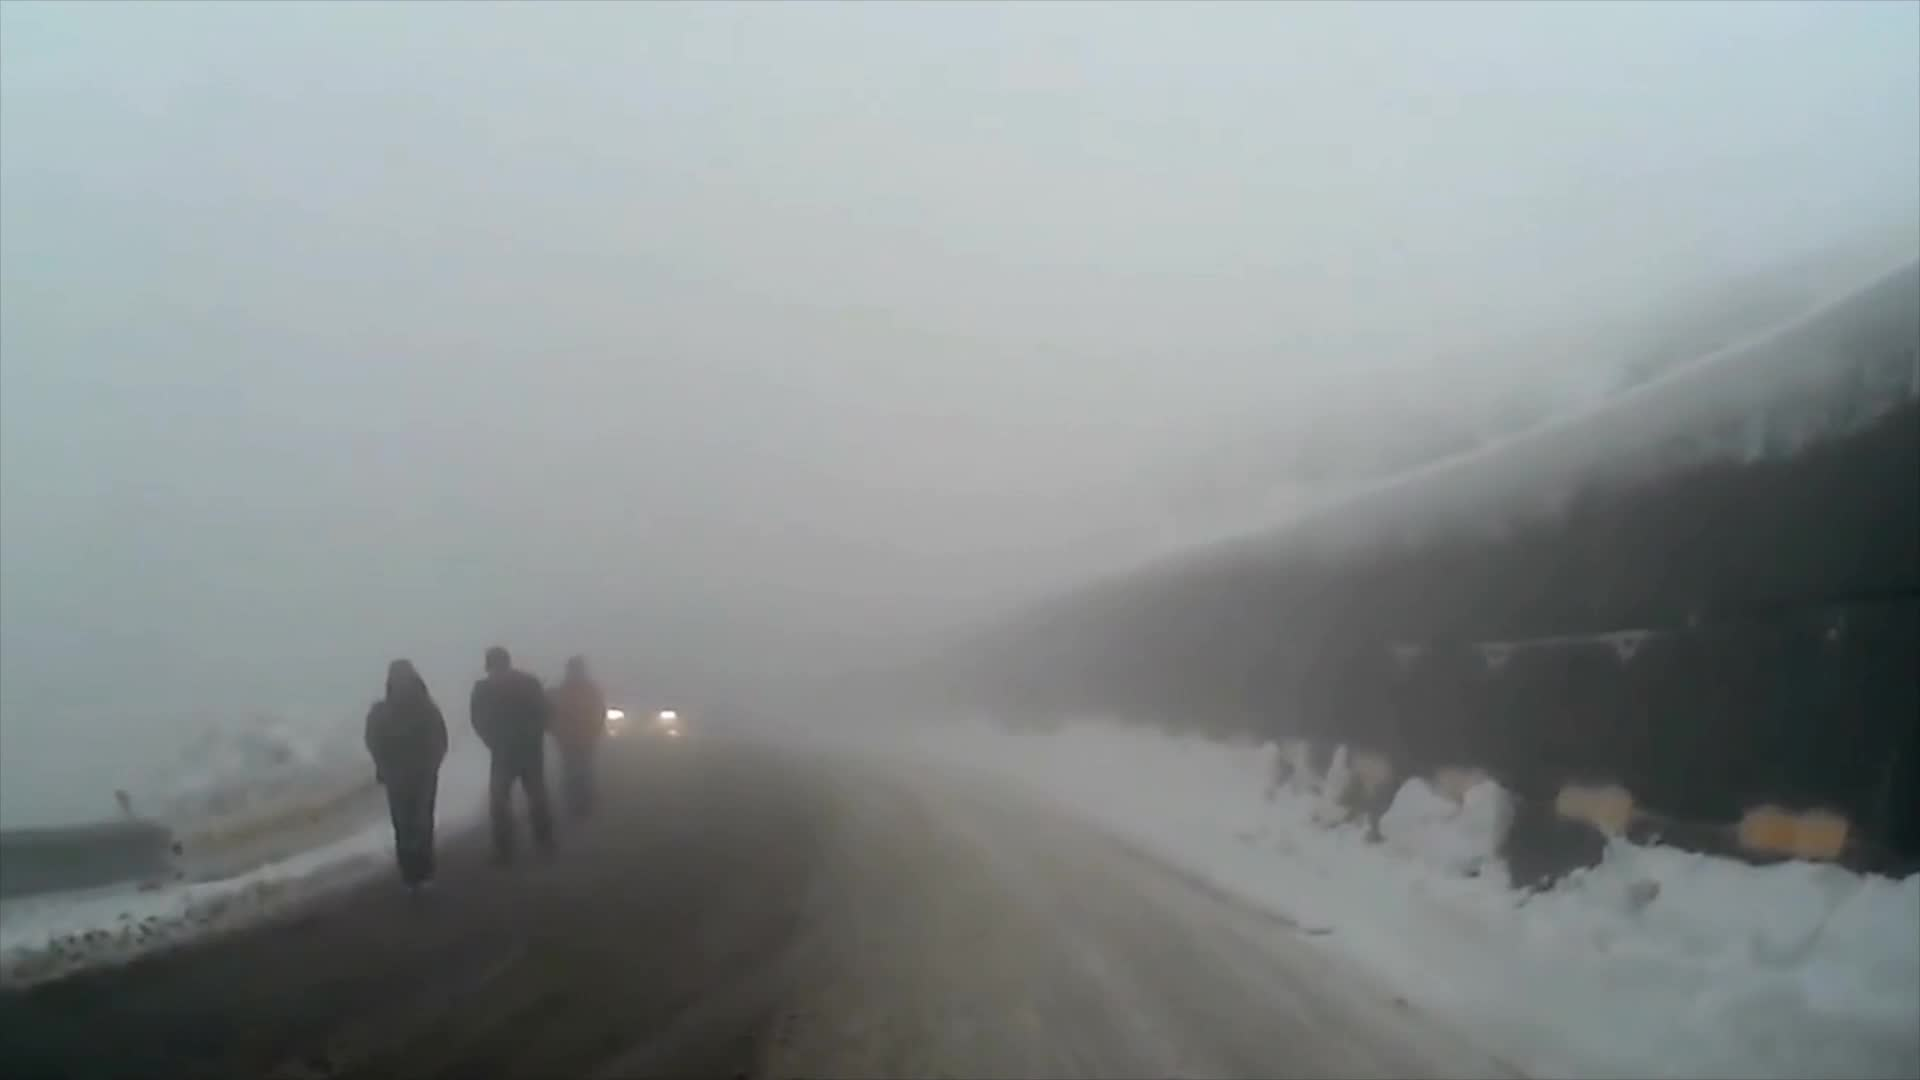pedestrian: (367, 653, 452, 898), (469, 647, 554, 866), (546, 655, 610, 825)
vehicle: (594, 683, 684, 757)
